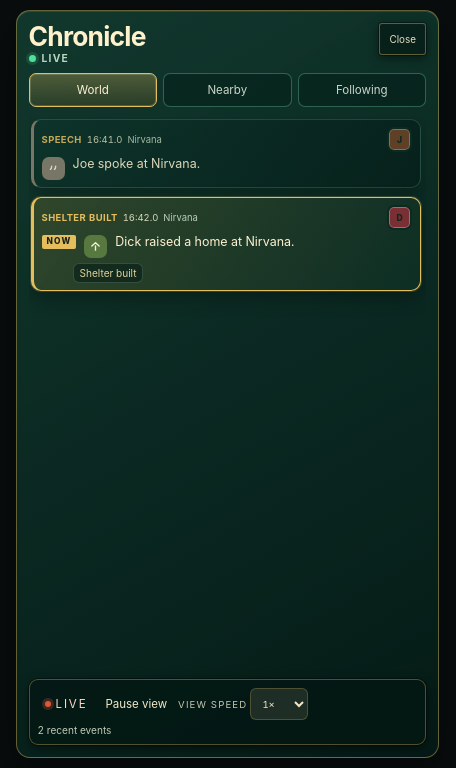
Test case: ChronicleKillfeed leading edge › still rewinds for an older card, and then marks nothing as now
Click the button with class "chronicle-killfeed__replay" showing "Joe spoke at Nirvana." at (136, 164), box [42,156,412,180]
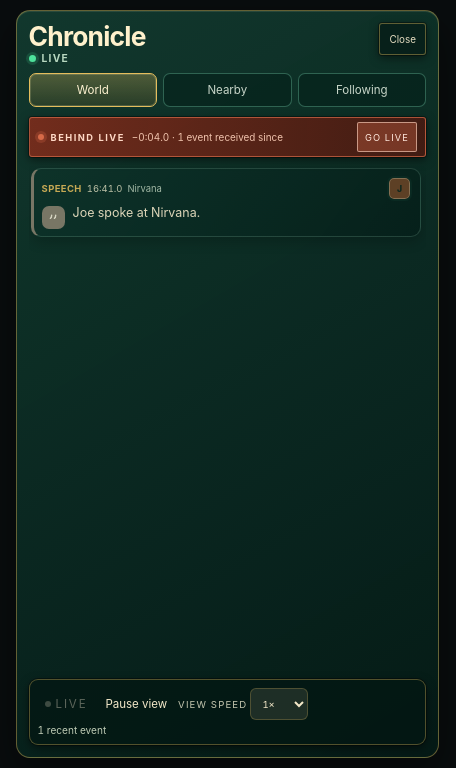
Expected: the message "Behind live −0:04.0 · 1 event received since Go live" is shown, [28,117,426,157]
